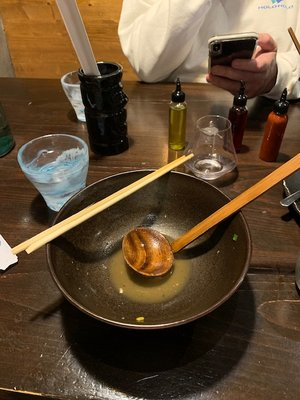pizza: (62, 61, 129, 158), (16, 133, 90, 212), (0, 95, 15, 159)
salad: (11, 153, 192, 258)
